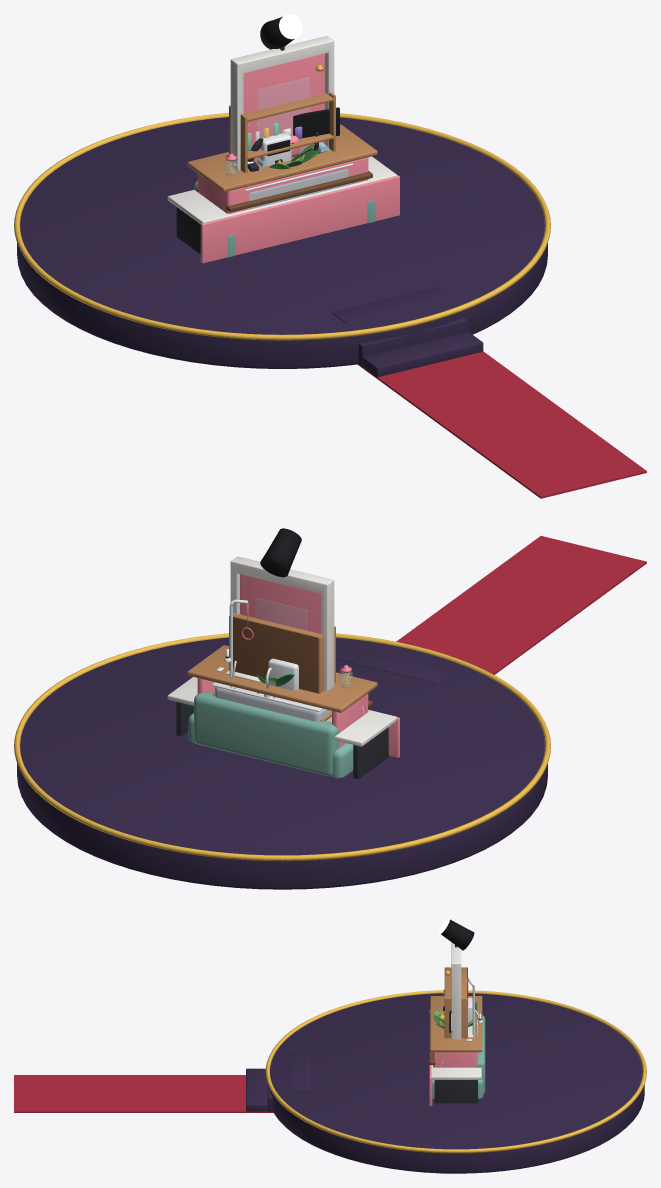
File: salon_props.glb
The picture shows the model from 3 angles, top to bottom: view 1: azimuth 30°, elevation 25°; view 2: azimuth 150°, elevation 25°; view 3: azimuth 270°, elevation 25°; orthographic projection. The views are drawn at different scales.
Visible parts, largest first — view 1: Platform, Carpet, Cloth, Edge, Leaf, Top.001, Frame, Step0, Top.003, DoorGlass, Step2, Step1 (+6 smaller); view 2: Platform, Carpet, Back, Edge, BackPanel, Top.001, Leaf, Frame, Top.003, Step2, Can, Tub (+7 smaller); view 3: Platform, Carpet, Edge, Top.001, Leg1.0, Frame, Step0, Step2, SideR, Top.003, Can, Side1 (+1 smaller).
Boxes of the visible parts, bbox=[...] form: Platform: bbox=[17, 117, 547, 368]; Carpet: bbox=[357, 351, 646, 498]; Cloth: bbox=[200, 175, 399, 263]; Edge: bbox=[14, 112, 550, 340]; Leaf: bbox=[243, 53, 324, 163]; Top.001: bbox=[187, 124, 377, 192]; Frame: bbox=[230, 35, 334, 170]; Step0: bbox=[362, 331, 483, 377]; Top.003: bbox=[167, 156, 397, 223]; DoorGlass: bbox=[257, 77, 309, 159]; Step2: bbox=[332, 287, 452, 324]; Step1: bbox=[358, 317, 467, 365]; Platform: bbox=[17, 637, 547, 889]; Carpet: bbox=[396, 536, 646, 674]; Back: bbox=[194, 691, 339, 776]; Edge: bbox=[14, 633, 550, 861]; BackPanel: bbox=[233, 616, 318, 693]; Top.001: bbox=[187, 645, 377, 712]; Leaf: bbox=[240, 574, 321, 633]; Frame: bbox=[230, 556, 334, 690]; Top.003: bbox=[167, 677, 397, 746]; Step2: bbox=[336, 647, 452, 683]; Can: bbox=[260, 528, 301, 577]; Tub: bbox=[215, 687, 331, 721]; Platform: bbox=[268, 993, 644, 1173]; Carpet: bbox=[14, 1075, 273, 1112]; Edge: bbox=[265, 990, 646, 1153]; Top.001: bbox=[430, 996, 482, 1052]; Leg1.0: bbox=[434, 1080, 477, 1103]; Frame: bbox=[451, 942, 461, 1039]; Step0: bbox=[246, 1068, 267, 1111]; Step2: bbox=[289, 1053, 311, 1089]; SideR: bbox=[436, 1052, 477, 1067]; Top.003: bbox=[431, 1065, 481, 1079]; Can: bbox=[441, 919, 474, 950]; Side1: bbox=[444, 998, 467, 1038].
Bounding box in the file's own units: 5.26 × 3.77 × 8.73.
